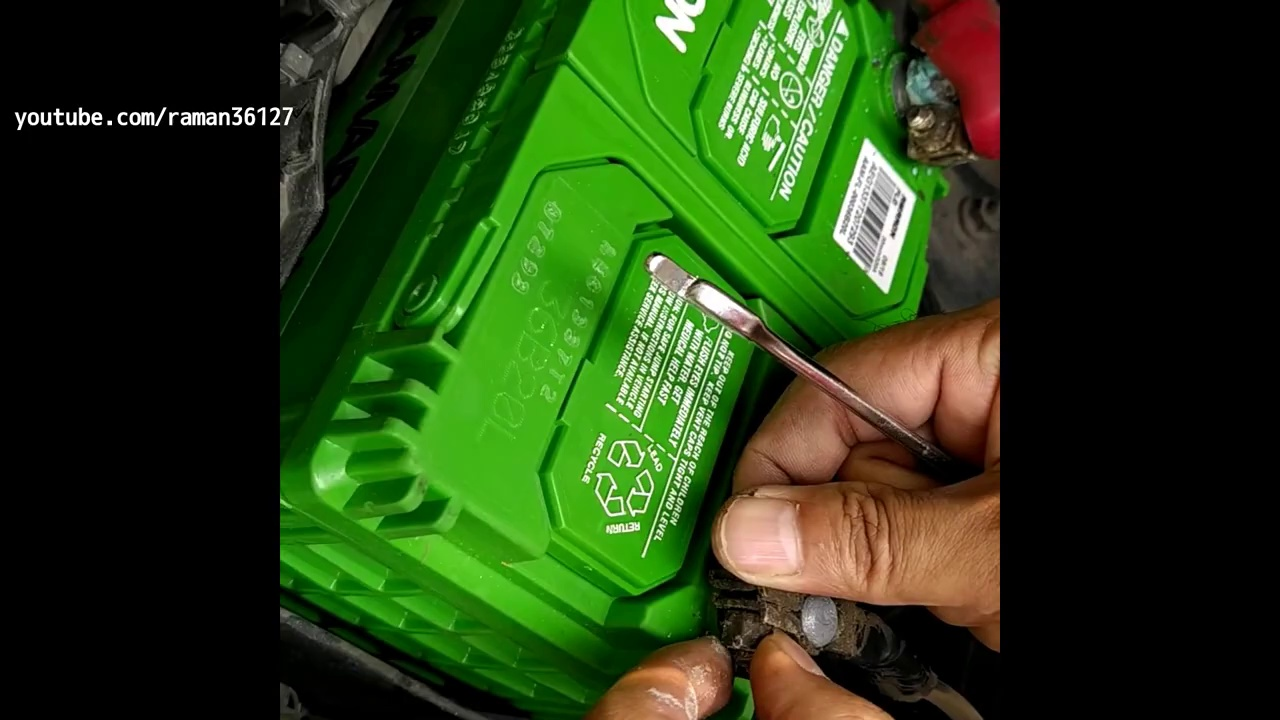battery: (421, 1, 999, 720)
neg_connected: (729, 553, 917, 682)
neg_touched: (647, 435, 958, 706)
pos_connected: (858, 14, 1003, 212)
